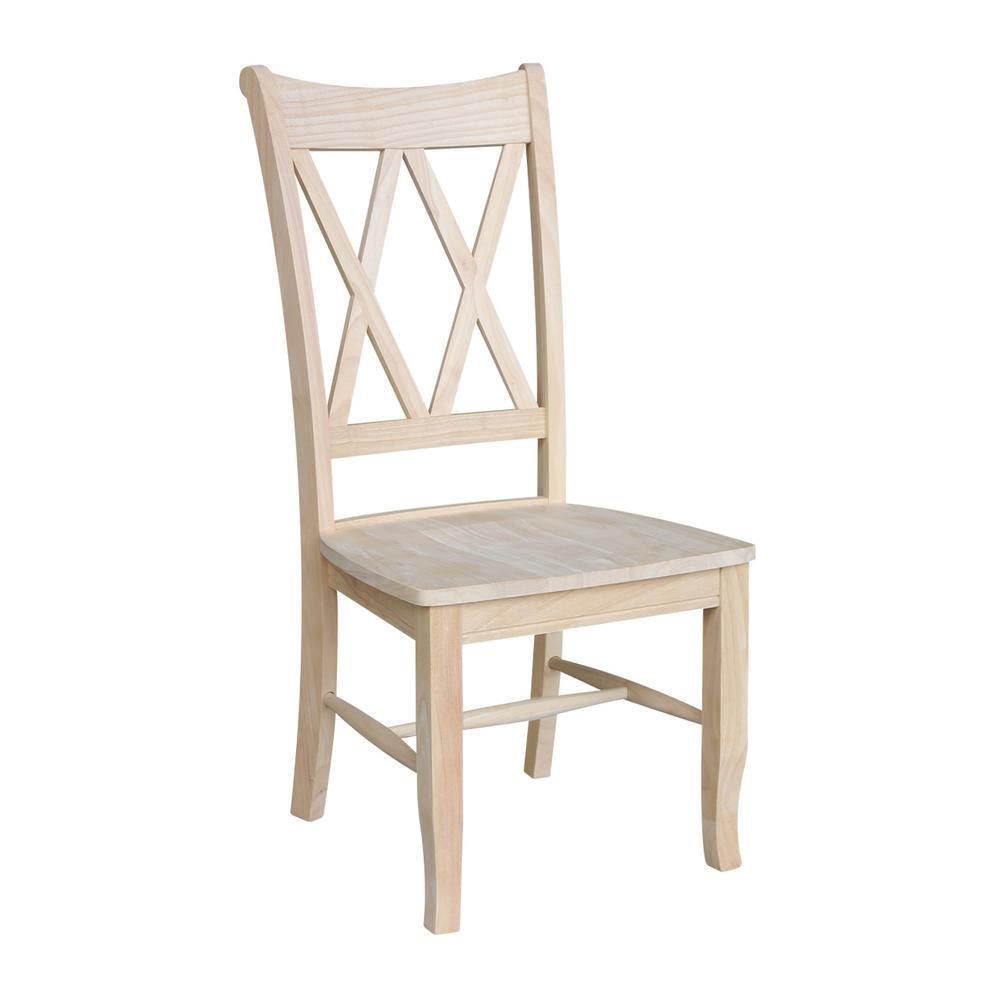chair: (191, 51, 858, 954)
